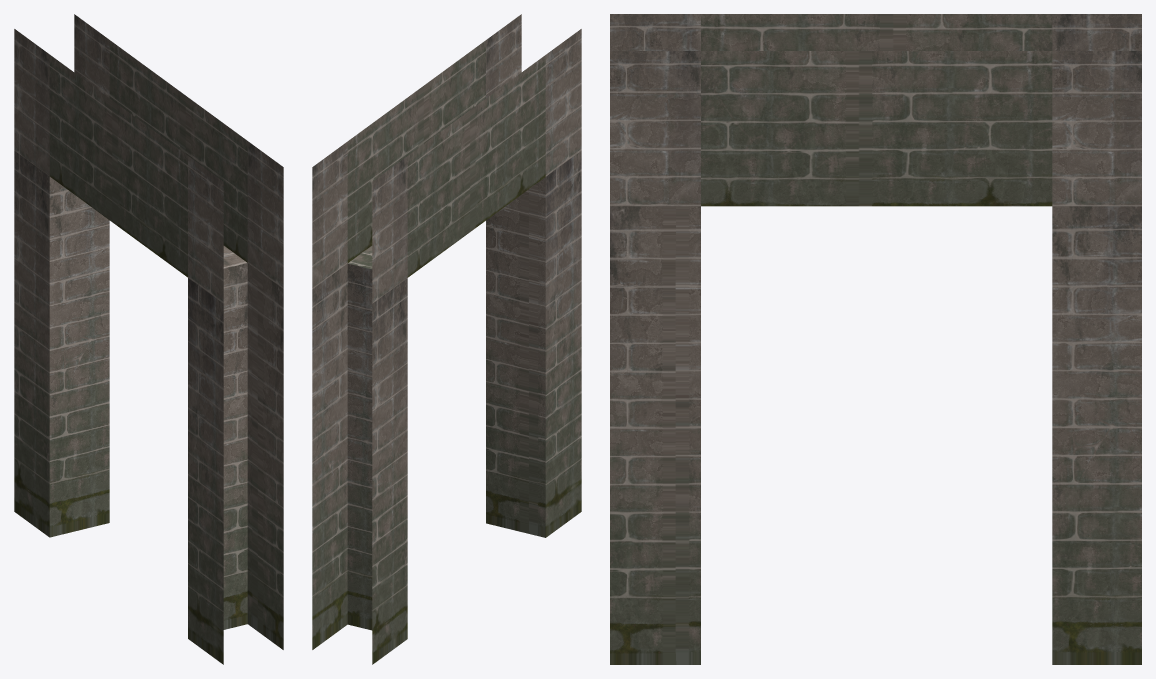
File: IronDoorFrame.fbx
3 views of the same model, side by side, from view 1: azimuth 30°, elevation 25°; view 2: azimuth 150°, elevation 25°; view 3: azimuth 270°, elevation 25° (orthographic). The views are drawn at different scales.
Parts seen in each view (by area): view 1: Box001; view 2: Box001; view 3: Box001.
Part boxes in pixels (bbox=[...]): Box001: bbox=[14, 14, 283, 664]; Box001: bbox=[312, 14, 581, 664]; Box001: bbox=[610, 14, 1141, 664].
Size of the model in its own units: 14.24 by 110 by 86.19.
1 material, 1 textured.
